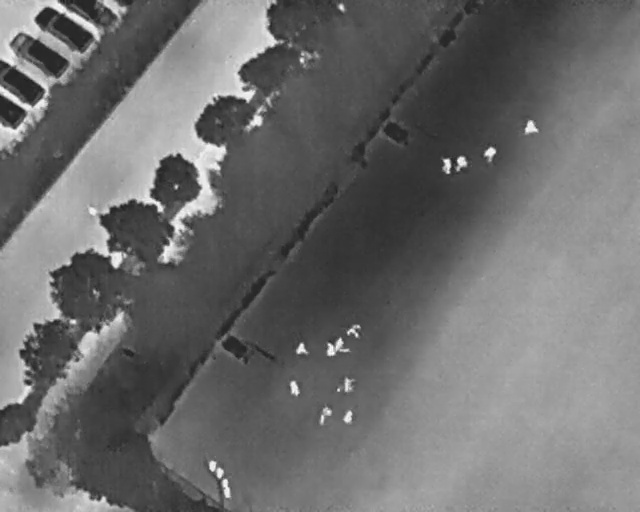Car: (1, 24, 74, 86), (29, 0, 98, 60), (0, 58, 43, 108), (55, 0, 119, 31), (0, 93, 27, 130)
Person: (314, 404, 334, 430), (453, 153, 469, 173), (524, 118, 540, 136), (286, 379, 301, 398), (439, 155, 452, 176), (345, 322, 362, 338), (334, 337, 351, 353), (342, 377, 357, 394), (483, 145, 497, 162), (295, 342, 309, 357), (324, 341, 336, 357), (342, 409, 354, 424)
